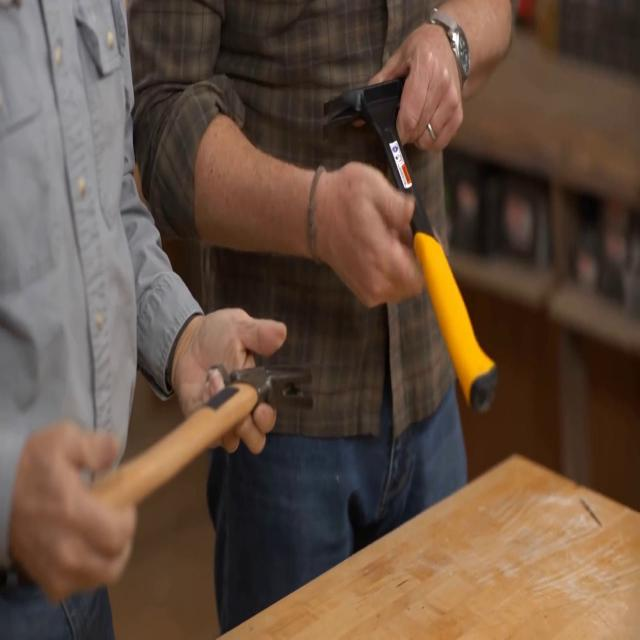hammer: (323, 74, 500, 415), (85, 361, 312, 511)
